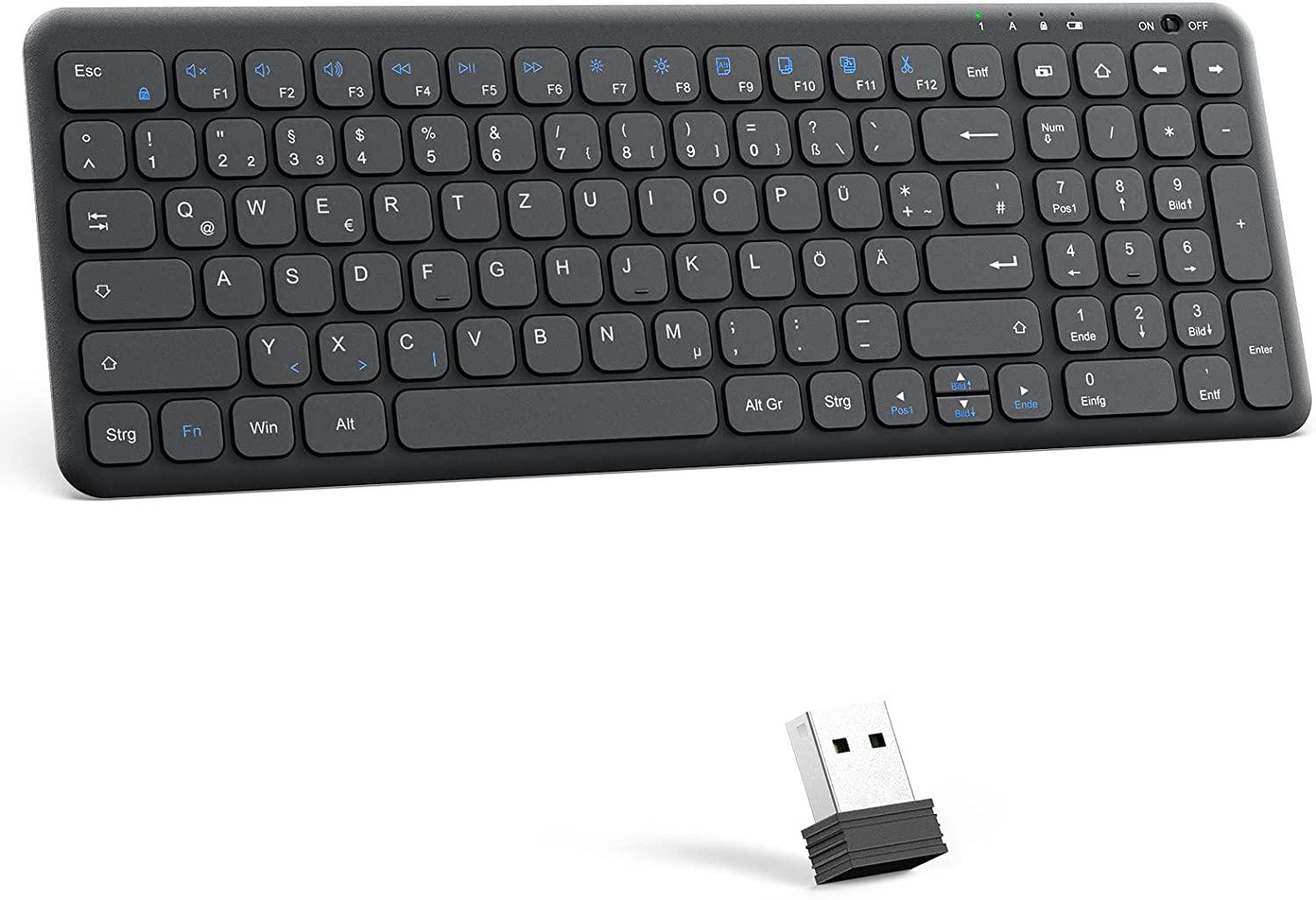0: (732, 106, 790, 164)
1: (131, 114, 195, 176)
2: (202, 115, 266, 175)
3: (269, 113, 334, 174)
4: (340, 111, 401, 172)
5: (406, 111, 468, 171)
6: (474, 111, 534, 170)
7: (540, 109, 598, 168)
8: (604, 108, 663, 168)
9: (669, 107, 726, 166)
a: (199, 252, 263, 314)
accent: (856, 104, 912, 161)
ae: (861, 233, 917, 291)
alt-left: (299, 388, 388, 453)
altgr-right: (719, 369, 802, 432)
b: (518, 311, 579, 372)
c: (383, 315, 446, 378)
caret: (59, 116, 124, 178)
comma: (714, 304, 774, 364)
d: (339, 247, 401, 311)
del: (918, 102, 1012, 160)
e: (301, 181, 364, 242)
enter: (923, 229, 1032, 289)
f: (407, 246, 468, 307)
g: (475, 245, 535, 305)
h: (541, 242, 601, 303)
hash: (948, 165, 1022, 224)
i: (634, 173, 692, 232)
j: (607, 240, 665, 301)
k: (672, 238, 731, 298)
keyboard: (22, 4, 1311, 499)
l: (736, 237, 792, 296)
m: (649, 306, 710, 367)
minus: (840, 300, 898, 359)
n: (585, 308, 645, 368)
o: (697, 172, 756, 231)
oe: (798, 235, 855, 294)
p: (762, 170, 819, 229)
plus: (885, 168, 941, 225)
point: (778, 302, 836, 361)
q: (160, 183, 226, 246)
r: (370, 179, 431, 239)
s: (269, 250, 333, 312)
shift-left: (79, 322, 240, 390)
shift-lock: (70, 254, 194, 318)
shift-right: (904, 294, 1041, 354)
space: (391, 375, 715, 448)
ss: (794, 105, 850, 163)
strg-left: (82, 397, 152, 464)
strg-right: (805, 368, 864, 427)
t: (438, 178, 497, 238)
tab: (63, 185, 154, 249)
u: (569, 174, 628, 234)
ue: (824, 169, 881, 226)
v: (452, 313, 513, 375)
w: (232, 182, 294, 243)
x: (315, 318, 377, 381)
y: (246, 320, 309, 383)
z: (504, 176, 563, 236)
